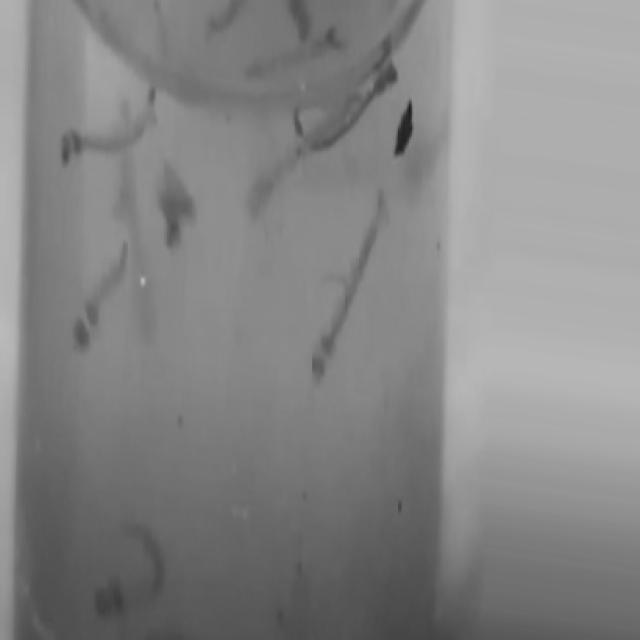larvas: (302, 189, 394, 385), (286, 55, 412, 158), (63, 236, 152, 359), (228, 131, 313, 229), (58, 102, 163, 168), (249, 23, 347, 88), (95, 529, 163, 609), (153, 173, 195, 244), (284, 0, 329, 45), (199, 1, 246, 41)
